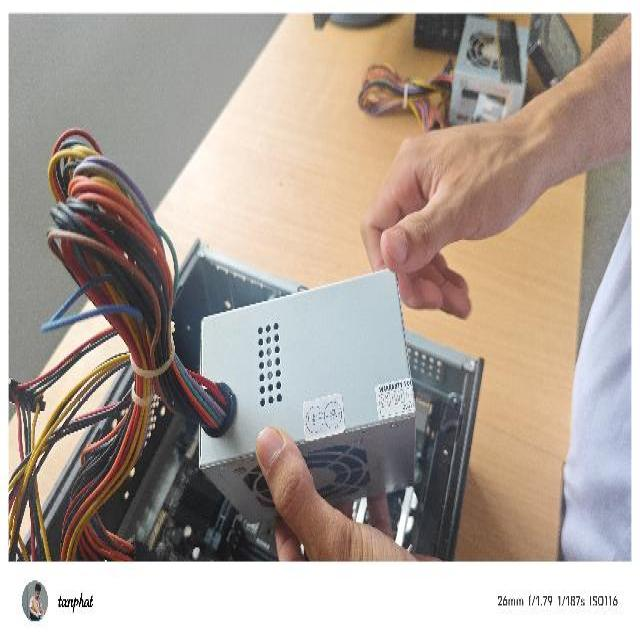PSU: (185, 266, 418, 525)
